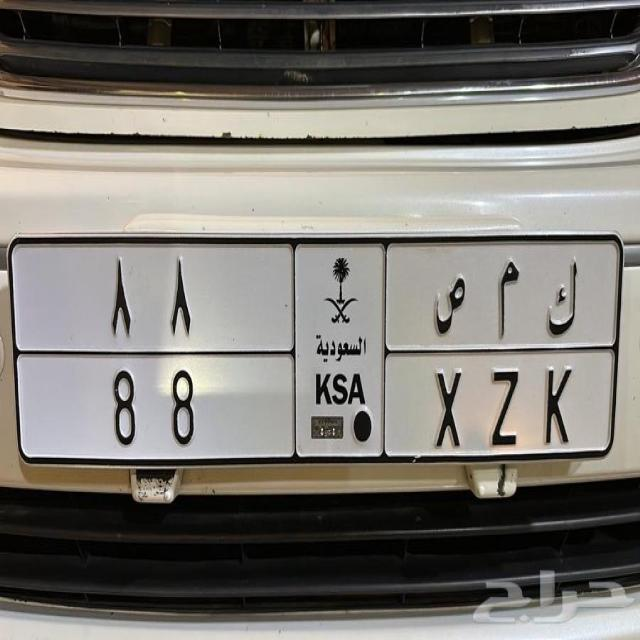license_plate: (17, 349, 617, 464)
